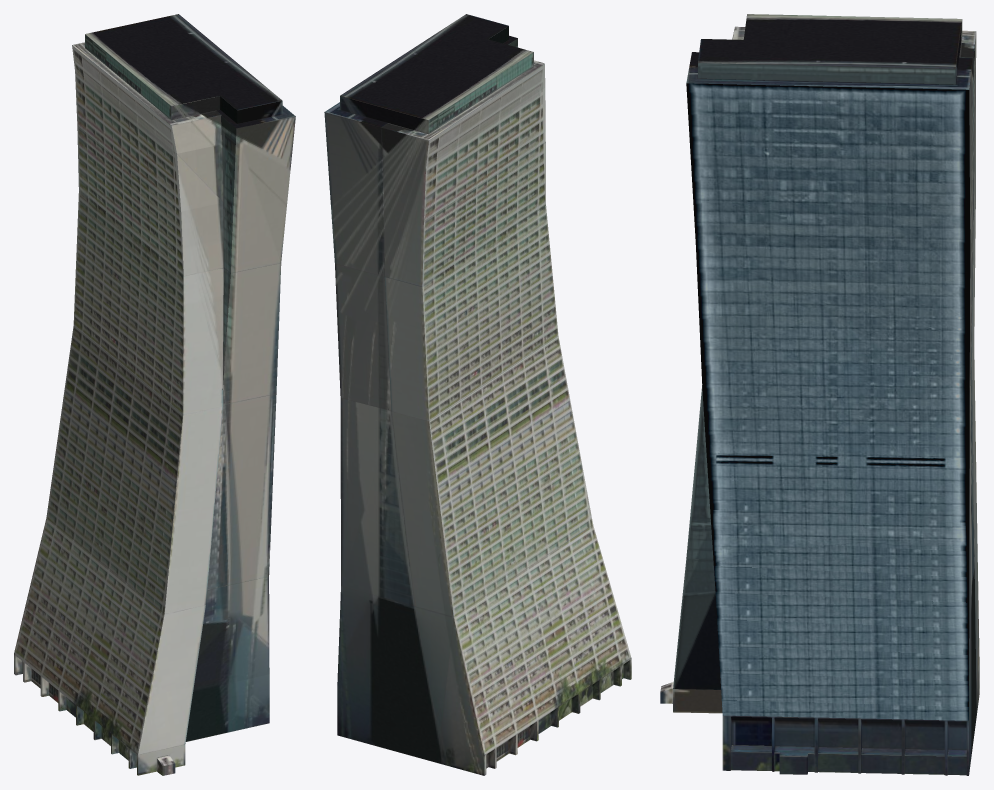
The picture shows the model from 3 angles, left to right: view 1: azimuth 30°, elevation 25°; view 2: azimuth 150°, elevation 25°; view 3: azimuth 270°, elevation 25°; orthographic projection. The views are drawn at different scales.
Parts seen in each view (by area): view 1: 9_0.glb; view 2: 9_0.glb; view 3: 9_0.glb.
Part boxes in pixels (x1,y1,x2,y2): 9_0.glb: (14, 14, 295, 775); 9_0.glb: (324, 14, 631, 775); 9_0.glb: (660, 14, 979, 775).
Bounding box in the file's own units: 52.47 × 181 × 73.93.
Materials: 2 (2 with a texture image).
